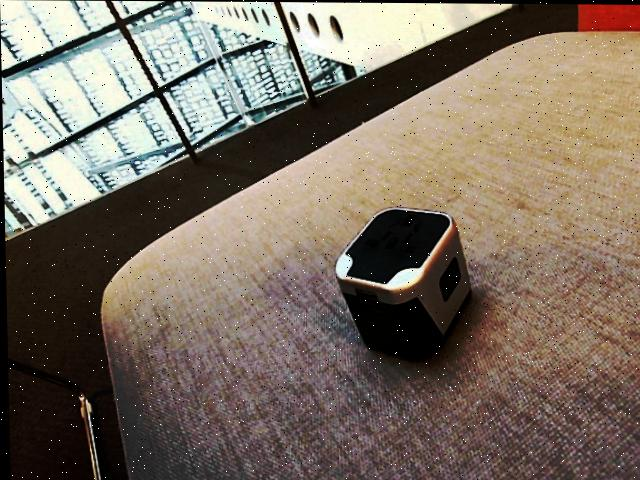adapter: (332, 204, 472, 360)
